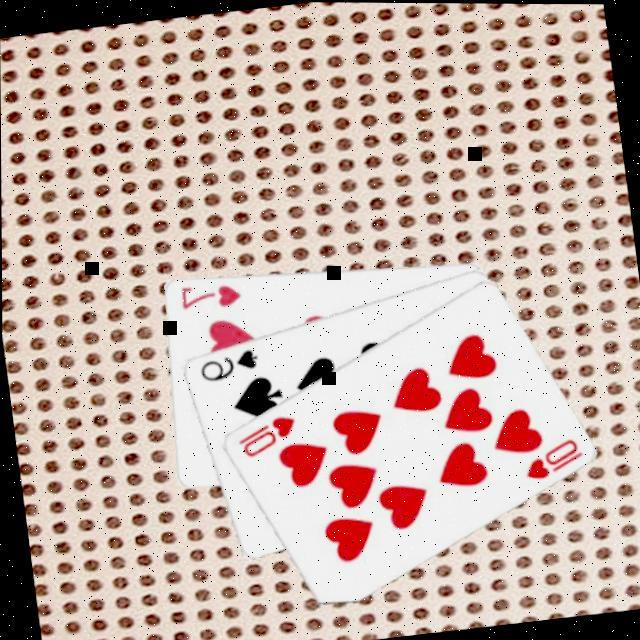10H: (228, 408, 300, 460), (515, 429, 586, 481)
7H: (173, 274, 242, 312)
9S: (192, 342, 262, 384)
